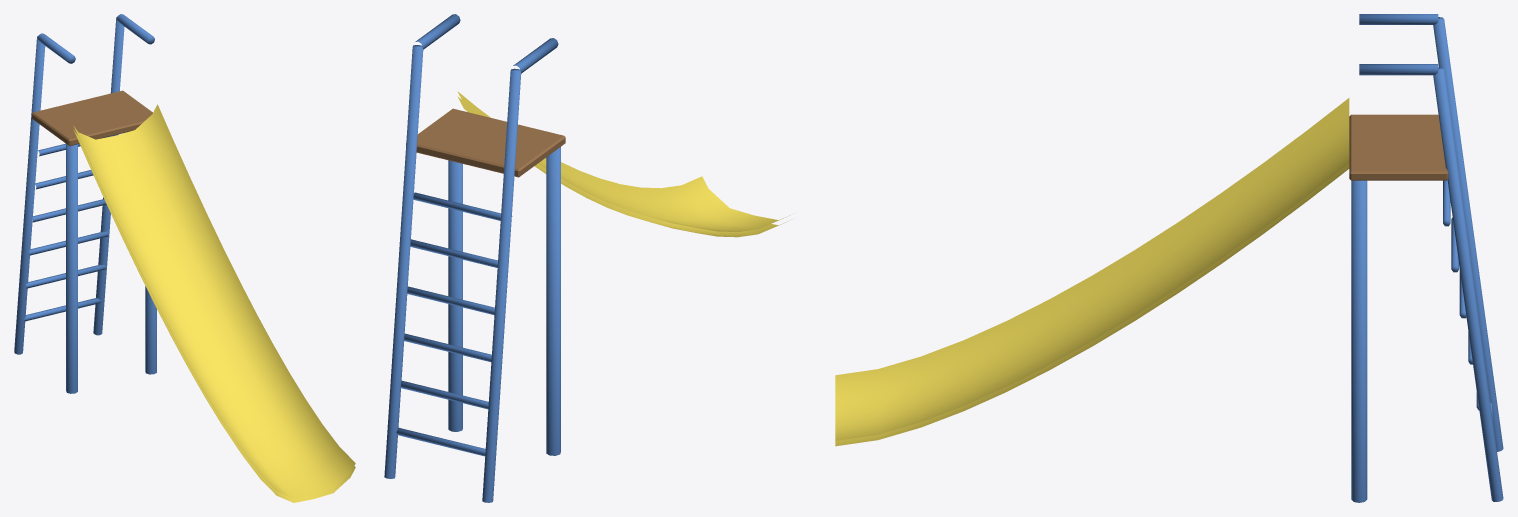
Rendered from slide.glb.
3 renders of one model, left to right at view 1: azimuth 30°, elevation 25°; view 2: azimuth 150°, elevation 25°; view 3: azimuth 270°, elevation 25°, orthographic. The views are drawn at different scales.
Visible parts, largest first — view 1: slide; view 2: slide; view 3: slide.
Part boxes in pixels (x1=…): slide: x1=14, y1=14, x2=355, y2=502; slide: x1=384, y1=14, x2=789, y2=502; slide: x1=835, y1=14, x2=1503, y2=502.
Bounding box in the file's own units: 0.7 × 2.43 × 3.38.
